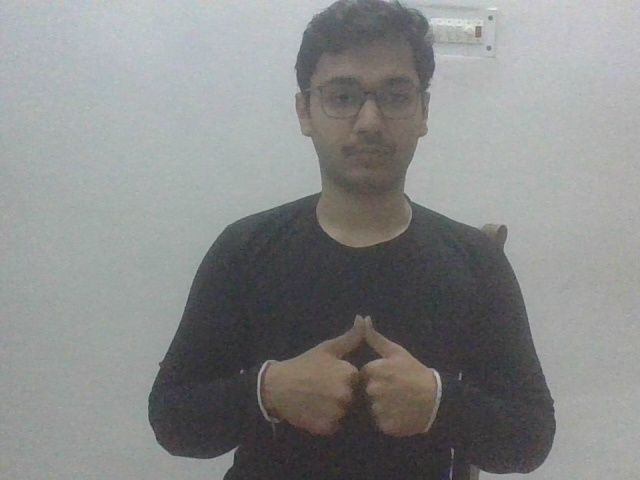A: (256, 312, 444, 440)
